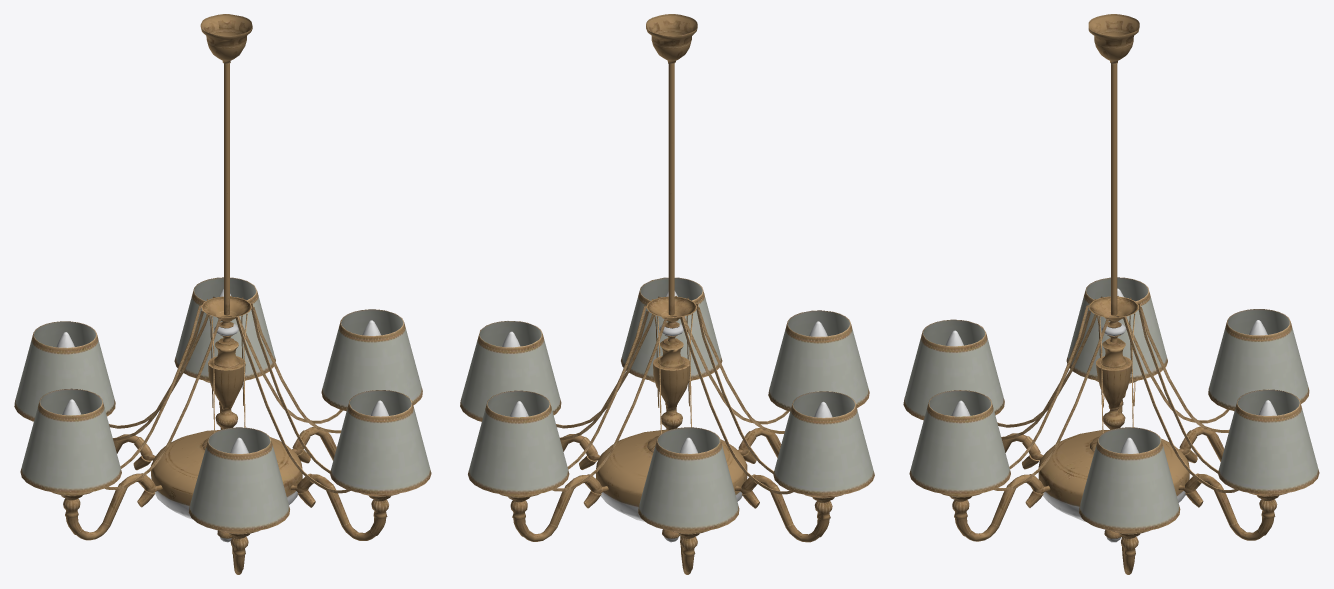
The model's file is Chandelier_02.glb.
The picture shows the model from 3 angles, left to right: view 1: azimuth 30°, elevation 25°; view 2: azimuth 150°, elevation 25°; view 3: azimuth 270°, elevation 25°; orthographic projection.
Parts seen in each view (by area): view 1: Chandelier_02; view 2: Chandelier_02; view 3: Chandelier_02.
Boxes of the visible parts, x1,y1,x2,y2 form: Chandelier_02: (14, 14, 431, 574); Chandelier_02: (460, 14, 874, 574); Chandelier_02: (903, 14, 1319, 574).
Bounding box in the file's own units: 0.6788 × 0.8481 × 0.6191.
2 materials, 1 textured.
